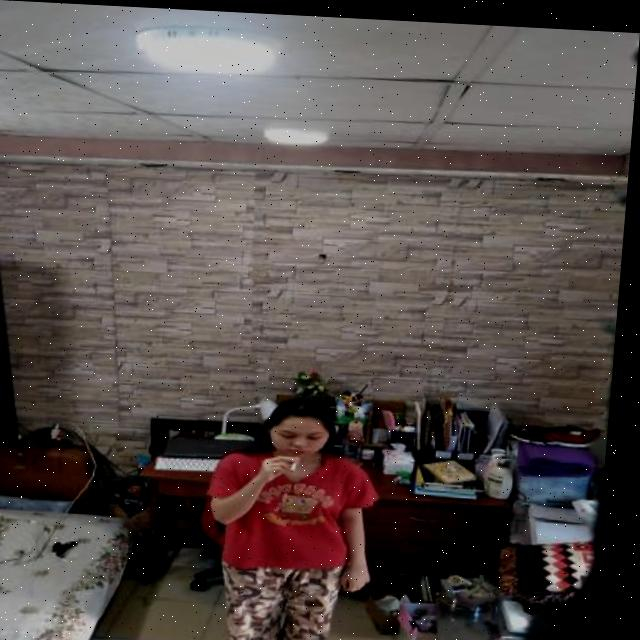cigarette: (297, 458, 305, 469)
